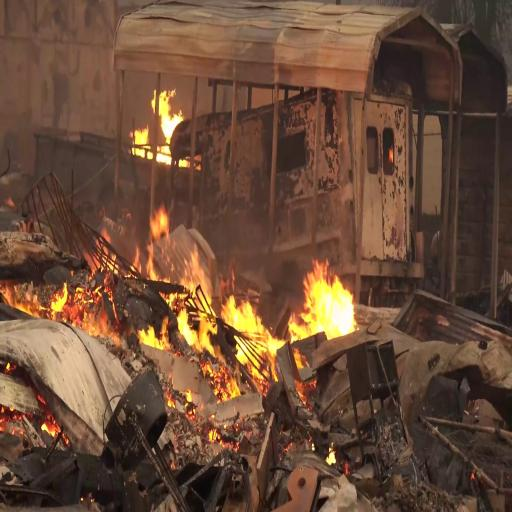fire: (174, 234, 273, 368), (283, 247, 357, 346), (137, 84, 199, 164)
